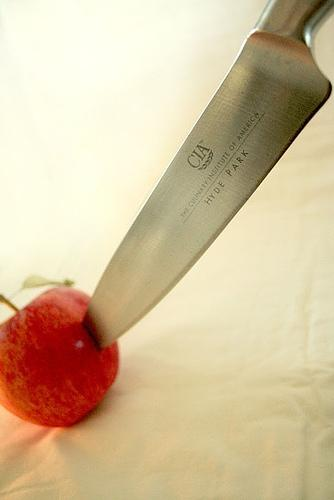apple: (0, 286, 121, 428)
